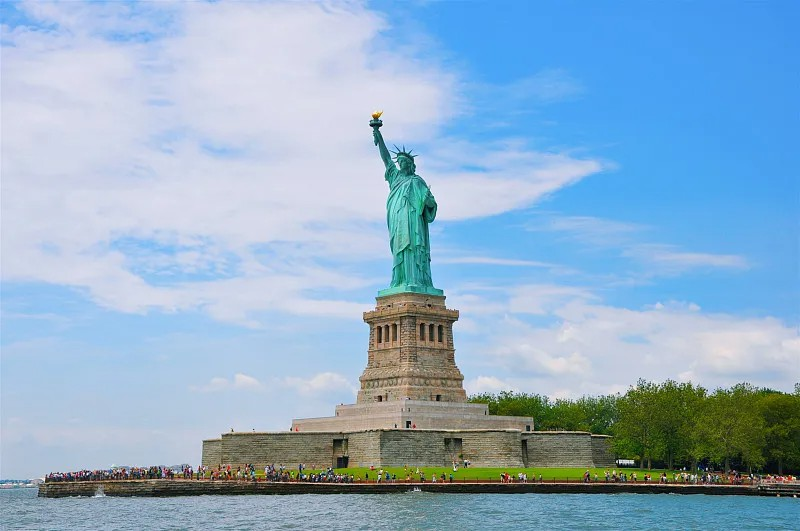SL: (357, 107, 467, 403)
